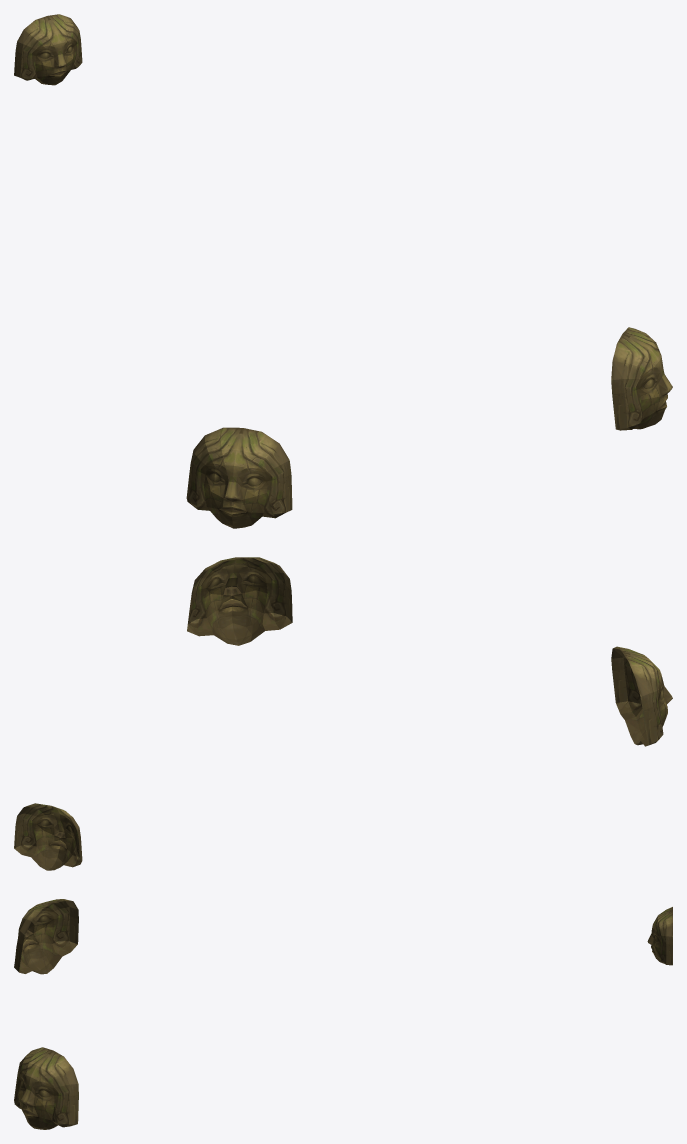
The model's file is city_plaza_staues_01.fbx.
3 renders of one model, top to bottom at view 1: azimuth 30°, elevation 25°; view 2: azimuth 150°, elevation 25°; view 3: azimuth 270°, elevation 25°, orthographic. The views are drawn at different scales.
Visible parts, largest first — view 1: obj0.016; view 2: obj0.016; view 3: obj0.016.
Boxes of the visible parts, x1,y1,x2,y2 form: obj0.016: (14, 14, 672, 528); obj0.016: (14, 557, 672, 870); obj0.016: (14, 899, 672, 1129).
Bounding box in the file's own units: 28.98 × 10.33 × 43.74.
